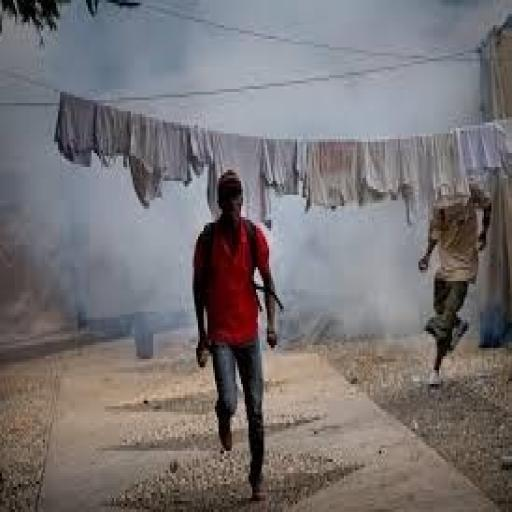running: (189, 167, 284, 504), (415, 170, 495, 392)
